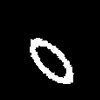chain: (30, 38, 72, 83)
